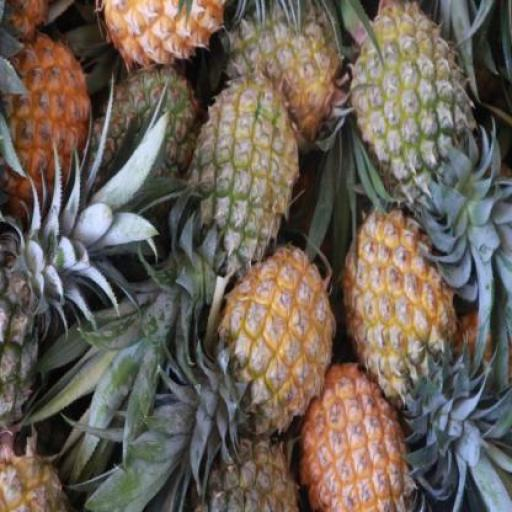------------------------------: (350, 4, 468, 218), (188, 82, 294, 277), (226, 2, 344, 144), (0, 232, 54, 465)
Pineapple - v8 v1: (342, 211, 452, 407), (220, 249, 326, 432), (0, 31, 92, 228), (299, 365, 412, 512)
